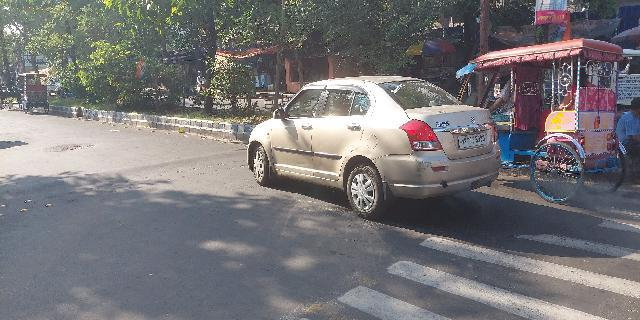Car: (242, 71, 501, 222)
Rickshaw: (445, 37, 630, 204), (14, 69, 50, 115)
